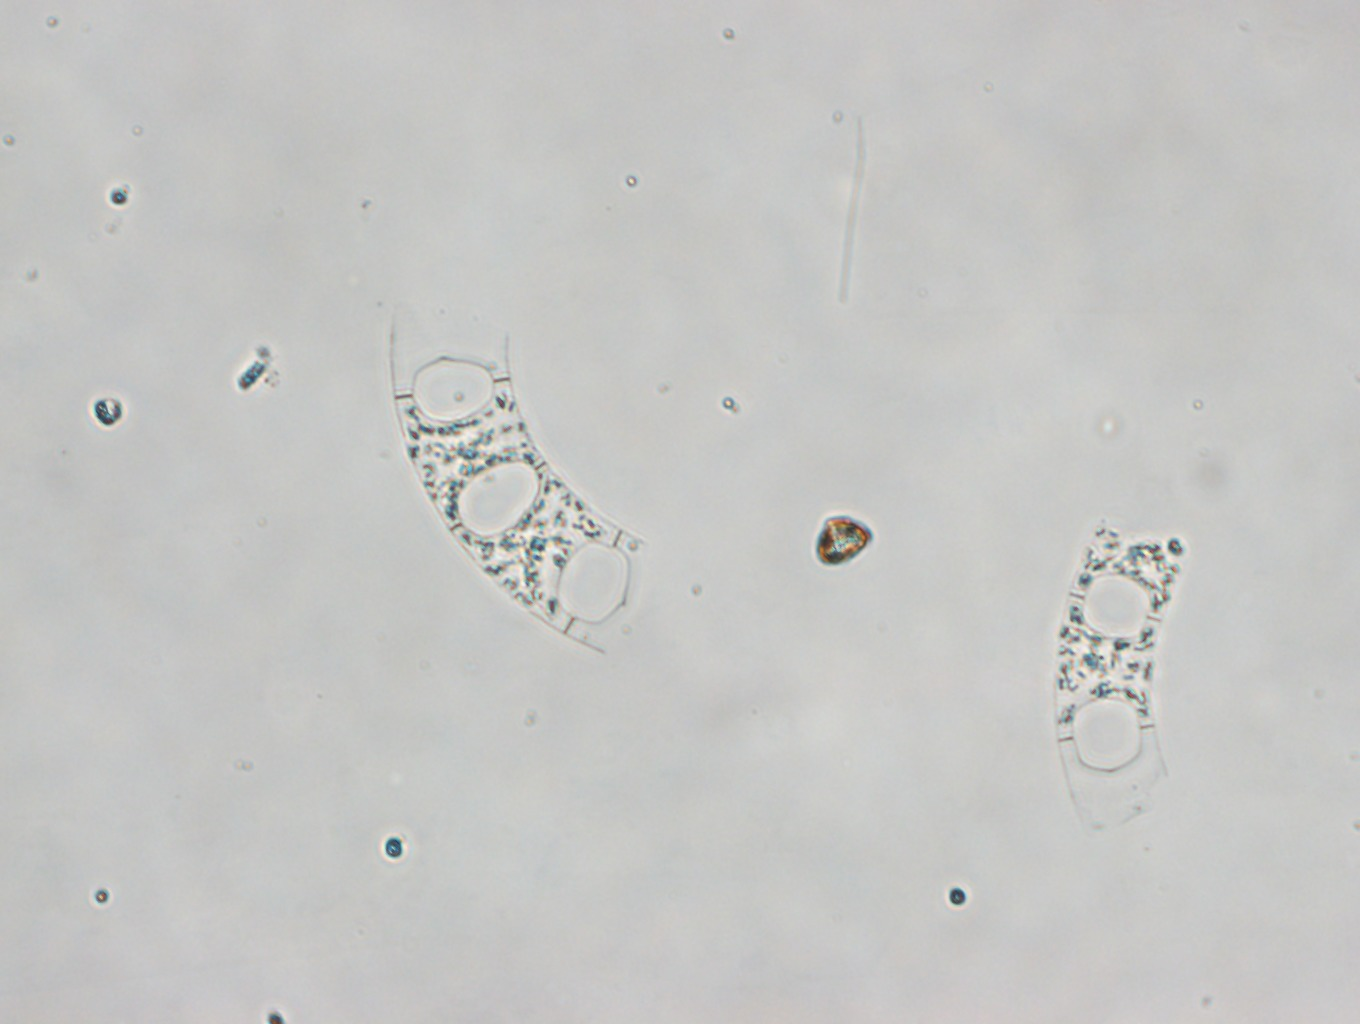eucampia: (390, 326, 653, 655), (1051, 516, 1192, 833)
